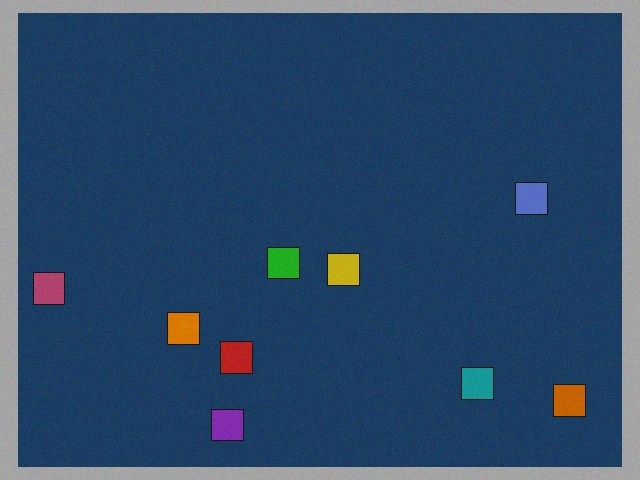block: (540, 376, 585, 416), (33, 271, 79, 305), (454, 361, 493, 400), (211, 400, 247, 441), (167, 308, 206, 344), (505, 183, 547, 216), (220, 336, 256, 373), (267, 247, 300, 279), (327, 252, 359, 285)
